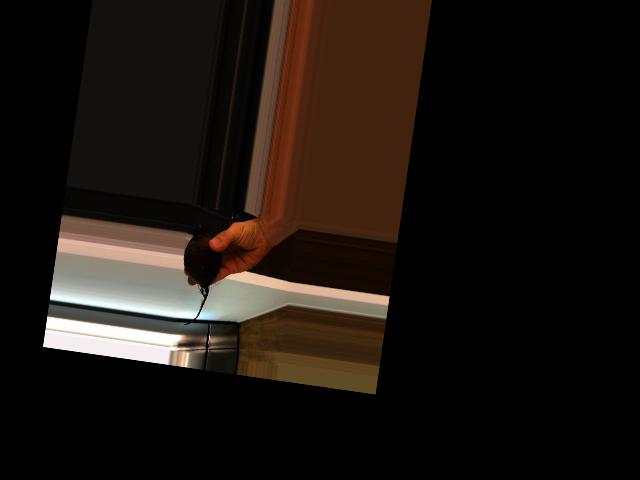beet: (173, 220, 226, 328)
